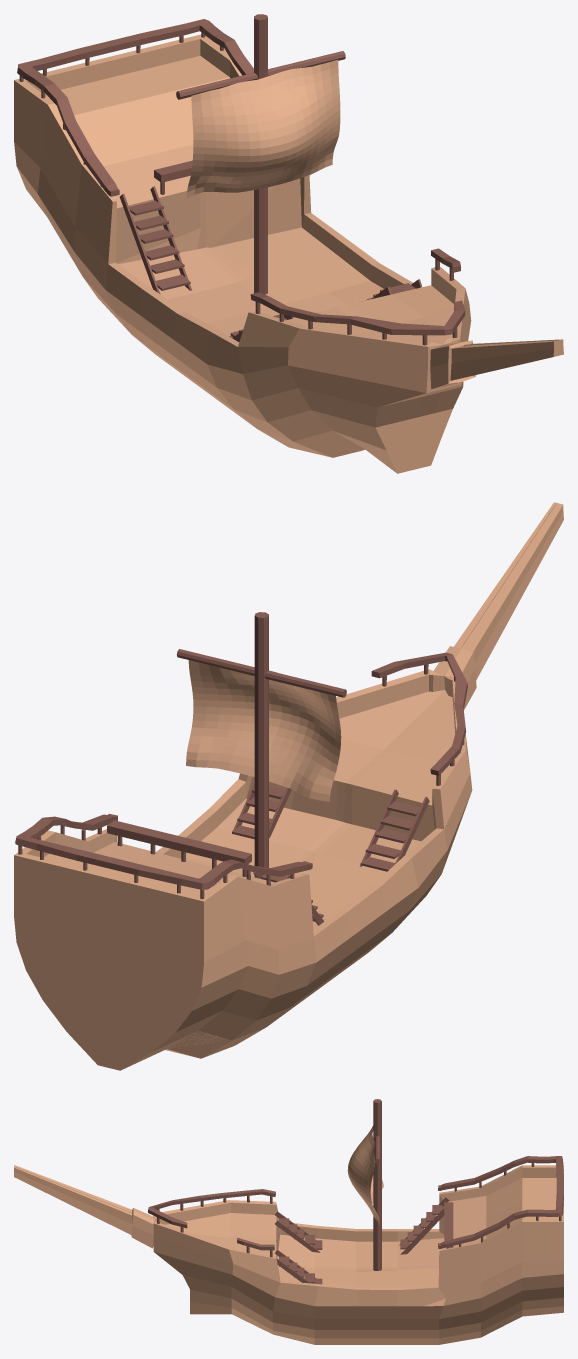
File: Ship3.glb
The picture shows the model from 3 angles, top to bottom: view 1: azimuth 30°, elevation 25°; view 2: azimuth 150°, elevation 25°; view 3: azimuth 270°, elevation 25°; orthographic projection. The views are drawn at different scales.
Parts seen in each view (by area): view 1: body1; view 2: body1; view 3: body1.
Part boxes in pixels (box(x1,y1,x2,y2)): body1: box(14, 14, 563, 473); body1: box(14, 502, 563, 1070); body1: box(14, 1099, 563, 1344).
Size of what is drawn, in the model's own units: 9.99 by 17.59 by 37.02.
2 materials, 2 textured.
